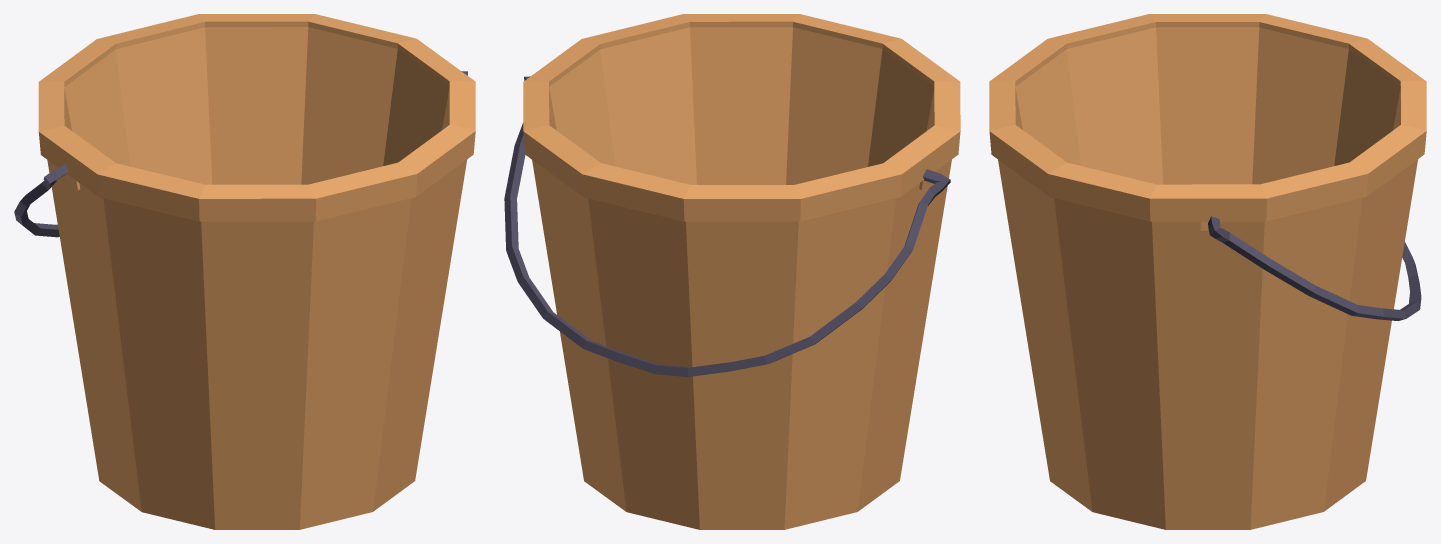
Rendered from bucketColored.fbx.
The picture shows the model from 3 angles, left to right: view 1: azimuth 30°, elevation 25°; view 2: azimuth 150°, elevation 25°; view 3: azimuth 270°, elevation 25°; orthographic projection.
Parts seen in each view (by area): view 1: bucket, handle; view 2: bucket, handle; view 3: bucket, handle.
Part boxes in pixels (<box>): bucket: <box>38,14,475,529</box>; handle: <box>14,71,467,237</box>; bucket: <box>523,14,960,529</box>; handle: <box>504,76,950,376</box>; bucket: <box>989,14,1426,529</box>; handle: <box>1208,216,1421,320</box>.
Size of the model in its own units: 43.09 by 34.88 by 38.39.
